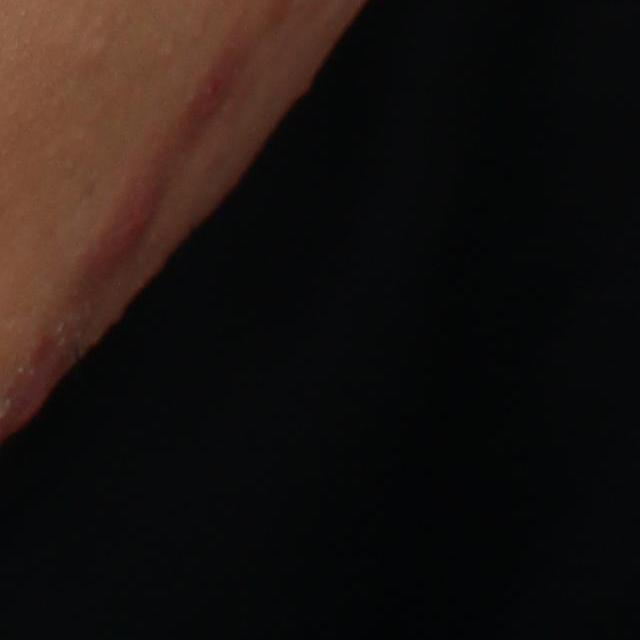comedo: (82, 35, 113, 63)
papule: (87, 173, 174, 282), (4, 346, 67, 438), (189, 72, 237, 127)
